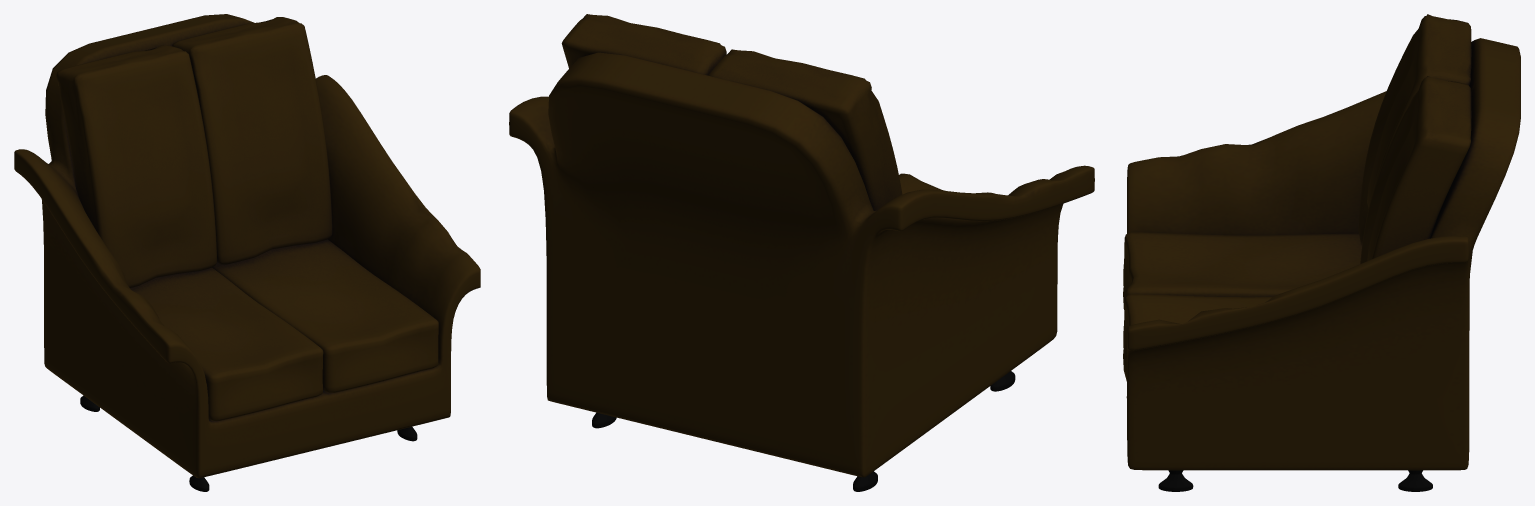
File: brown-sofa.fbx
3 views of the same model, side by side, from view 1: azimuth 30°, elevation 25°; view 2: azimuth 150°, elevation 25°; view 3: azimuth 270°, elevation 25° (orthographic). The views are drawn at different scales.
Parts seen in each view (by area): view 1: sofa.export; view 2: sofa.export; view 3: sofa.export.
Part boxes in pixels (<box>): sofa.export: <box>14,14,480,491</box>; sofa.export: <box>509,14,1094,491</box>; sofa.export: <box>1123,14,1520,491</box>.
Size of the model in its own units: 100 by 100 by 100.
